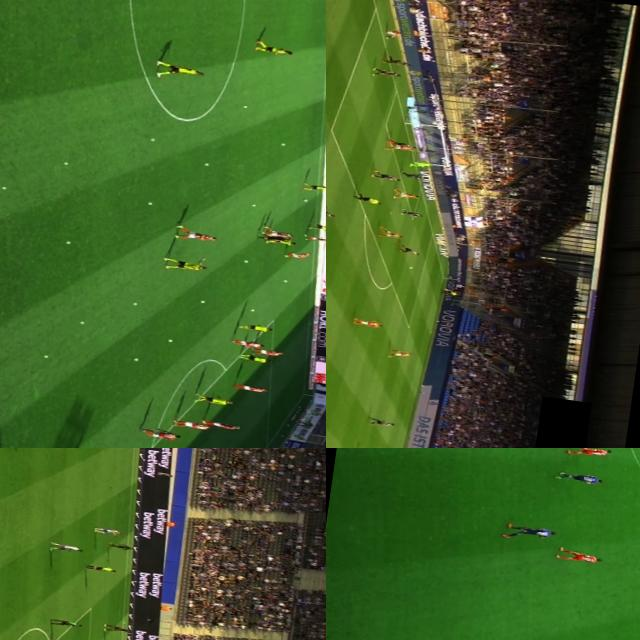ball: (62, 158, 71, 166), (406, 264, 414, 270), (132, 356, 140, 361), (199, 298, 207, 303), (250, 202, 256, 208), (150, 136, 156, 142), (243, 258, 249, 264), (280, 141, 286, 146), (132, 301, 138, 306), (42, 354, 48, 359), (301, 198, 308, 202), (204, 162, 211, 166), (65, 240, 71, 244), (168, 339, 174, 343), (250, 308, 256, 312), (242, 105, 249, 108), (1, 187, 8, 190), (148, 201, 153, 205), (80, 320, 84, 324), (282, 280, 290, 282)
player: (499, 522, 555, 544), (550, 546, 607, 564), (167, 225, 220, 244), (162, 252, 207, 274), (554, 468, 606, 486), (562, 448, 612, 461), (138, 426, 182, 438), (260, 235, 295, 250), (257, 225, 294, 239), (380, 52, 412, 68), (174, 419, 212, 432), (202, 419, 242, 431), (376, 224, 405, 240), (369, 168, 401, 182), (235, 322, 272, 334), (350, 316, 384, 329), (386, 138, 417, 152), (198, 394, 234, 406), (370, 66, 402, 79), (234, 382, 268, 394), (282, 248, 311, 262), (392, 188, 421, 202), (248, 347, 284, 358), (48, 617, 84, 628), (386, 347, 414, 360), (366, 416, 396, 428), (386, 140, 415, 152), (230, 338, 264, 348), (51, 544, 84, 554), (300, 182, 326, 194), (397, 242, 421, 255), (108, 541, 134, 553), (94, 525, 122, 536), (102, 624, 132, 634), (398, 170, 426, 180), (239, 354, 271, 362), (399, 208, 424, 218), (384, 28, 404, 40), (409, 160, 434, 169), (303, 234, 326, 243), (306, 222, 326, 232), (326, 204, 337, 218)
